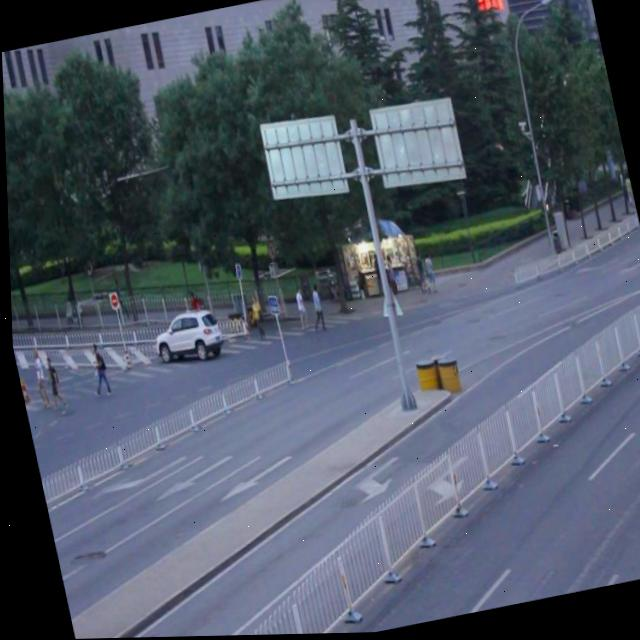car: (147, 305, 224, 371)
